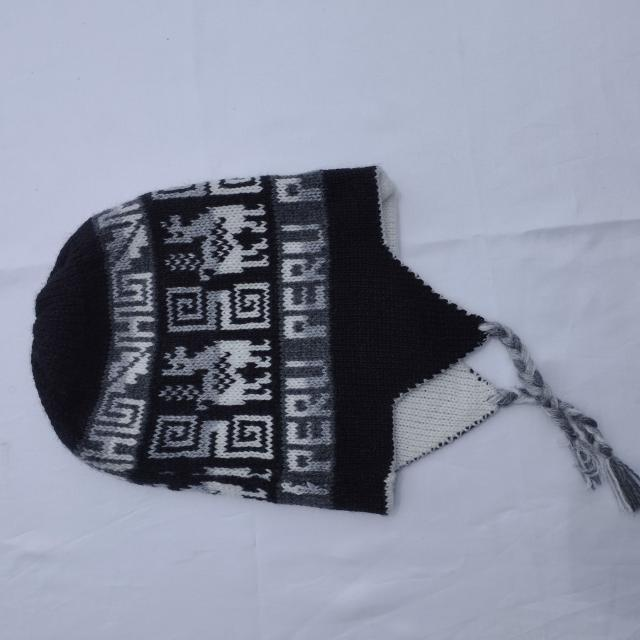Gorro: (29, 163, 638, 518)
